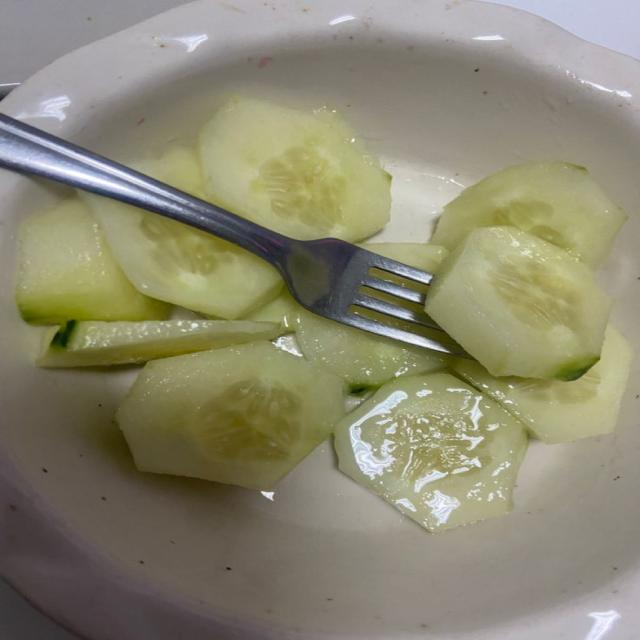cucumber sliced: (117, 342, 344, 489), (335, 374, 527, 531), (426, 228, 611, 380), (200, 97, 391, 240), (81, 194, 281, 319), (454, 325, 633, 444), (433, 162, 626, 265), (16, 199, 169, 324), (290, 308, 450, 387), (37, 320, 280, 367), (243, 288, 300, 330)
